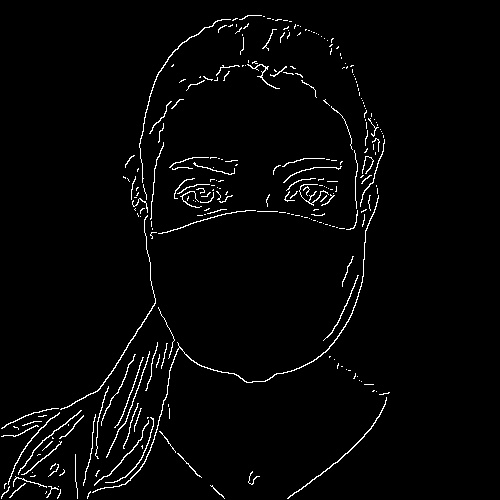mask: (153, 215, 364, 381)
